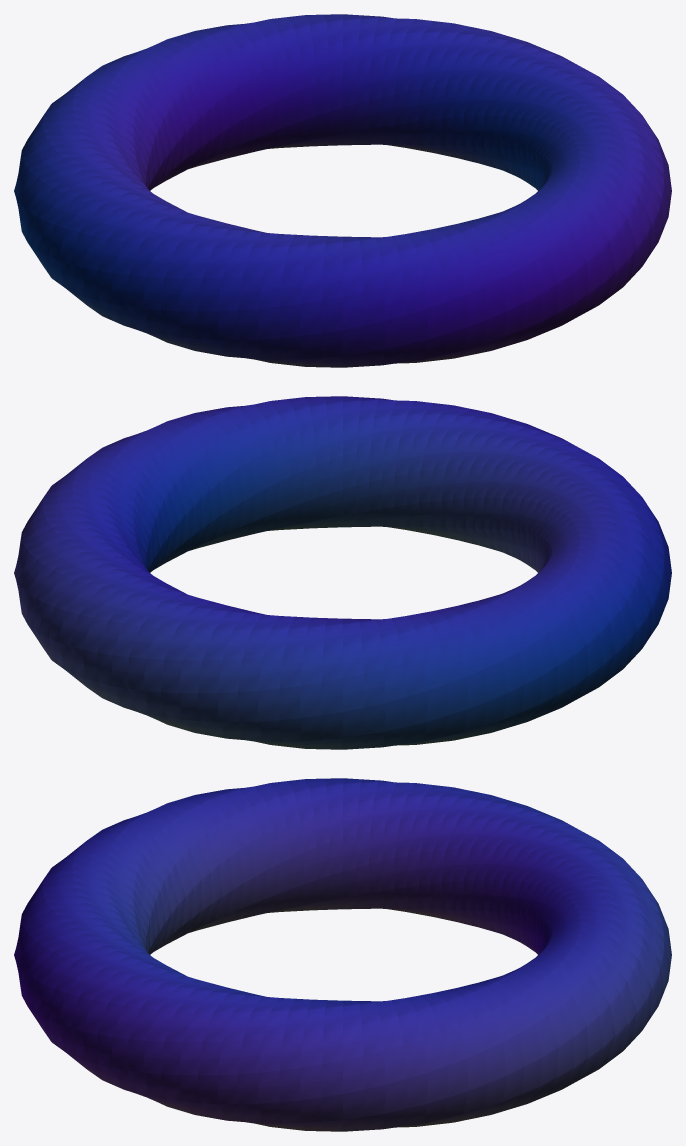
File: TwistedTorus.fbx
3 renders of one model, top to bottom at view 1: azimuth 30°, elevation 25°; view 2: azimuth 150°, elevation 25°; view 3: azimuth 270°, elevation 25°, orthographic.
Visible parts, largest first — view 1: TwistedTorus; view 2: TwistedTorus; view 3: TwistedTorus.
Boxes of the visible parts, <box> form: TwistedTorus: <box>14,14,671,367</box>; TwistedTorus: <box>14,396,671,749</box>; TwistedTorus: <box>14,778,671,1131</box>.
Bounding box in the file's own units: 250 × 50 × 250.
